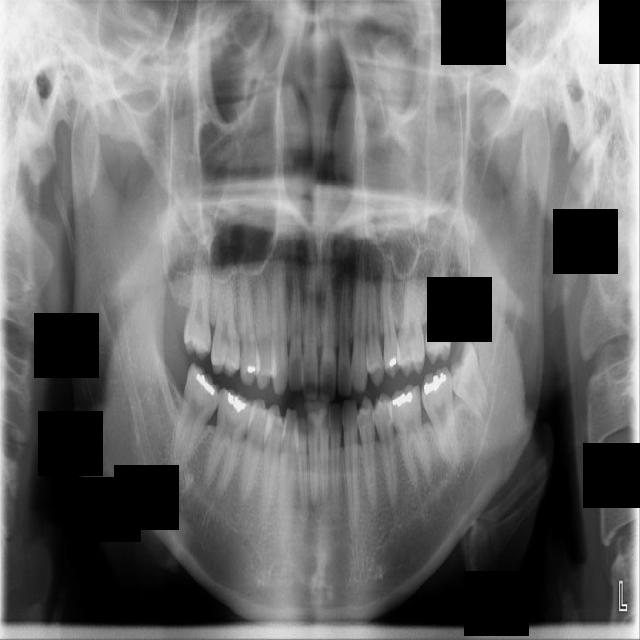52: (172, 360, 232, 420), (206, 382, 264, 436), (382, 381, 431, 430), (413, 365, 460, 413), (238, 347, 263, 388), (383, 339, 402, 378)
73: (624, 615, 632, 624)
BioHorizons Implant: (424, 234, 453, 364)
Biomet 3i Implant: (438, 341, 500, 438)
Blue Sky Bio Implant: (418, 365, 460, 473)
Caries: (184, 227, 212, 362)
Implant: (167, 362, 227, 473)
